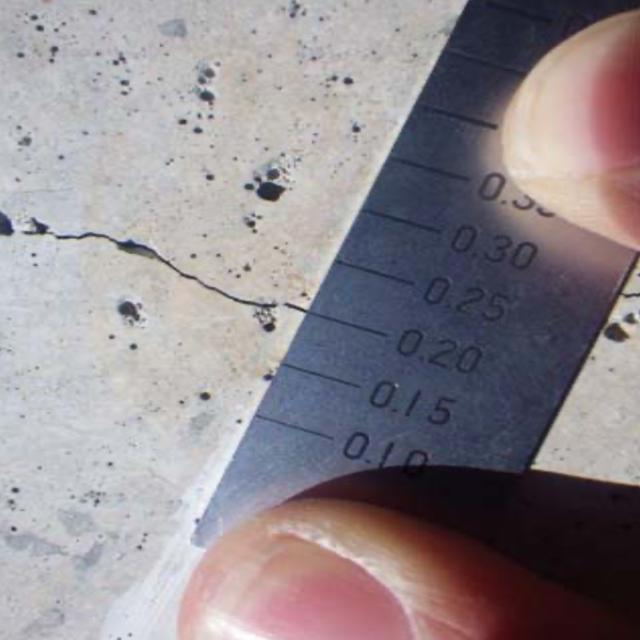crack: (1, 190, 320, 354)
